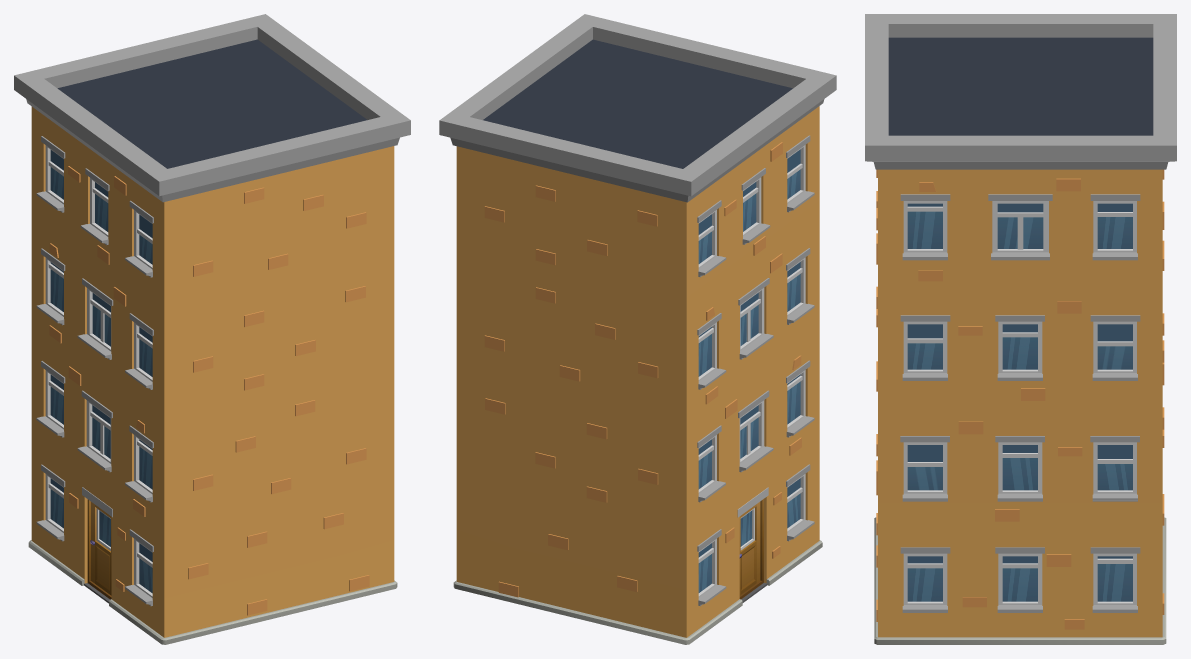
File: Building_2_5_E.fbx
3 renders of one model, left to right at view 1: azimuth 30°, elevation 25°; view 2: azimuth 150°, elevation 25°; view 3: azimuth 270°, elevation 25°, orthographic. The views are drawn at different scales.
Parts seen in each view (by area): view 1: Building_2_5_E; view 2: Building_2_5_E; view 3: Building_2_5_E.
Boxes of the visible parts, bbox=[...] form: Building_2_5_E: bbox=[14, 14, 410, 644]; Building_2_5_E: bbox=[439, 14, 836, 644]; Building_2_5_E: bbox=[865, 14, 1176, 644].
Bounding box in the file's own units: 620 × 1105 × 620.
